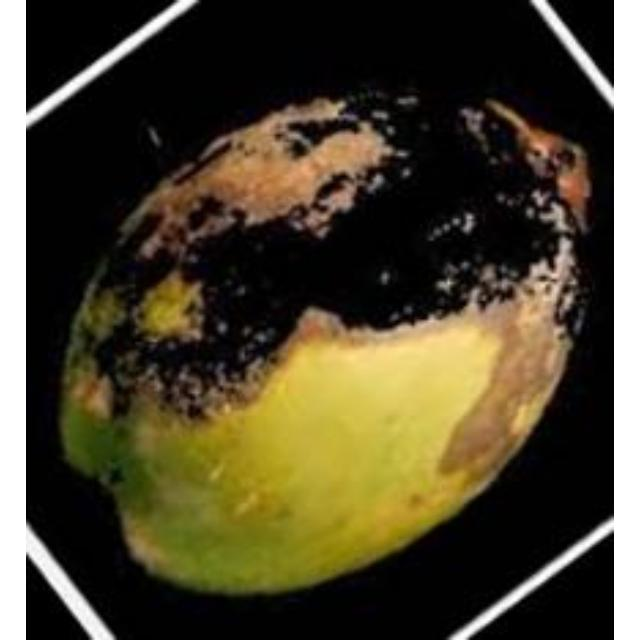damaged: (56, 82, 606, 610)
